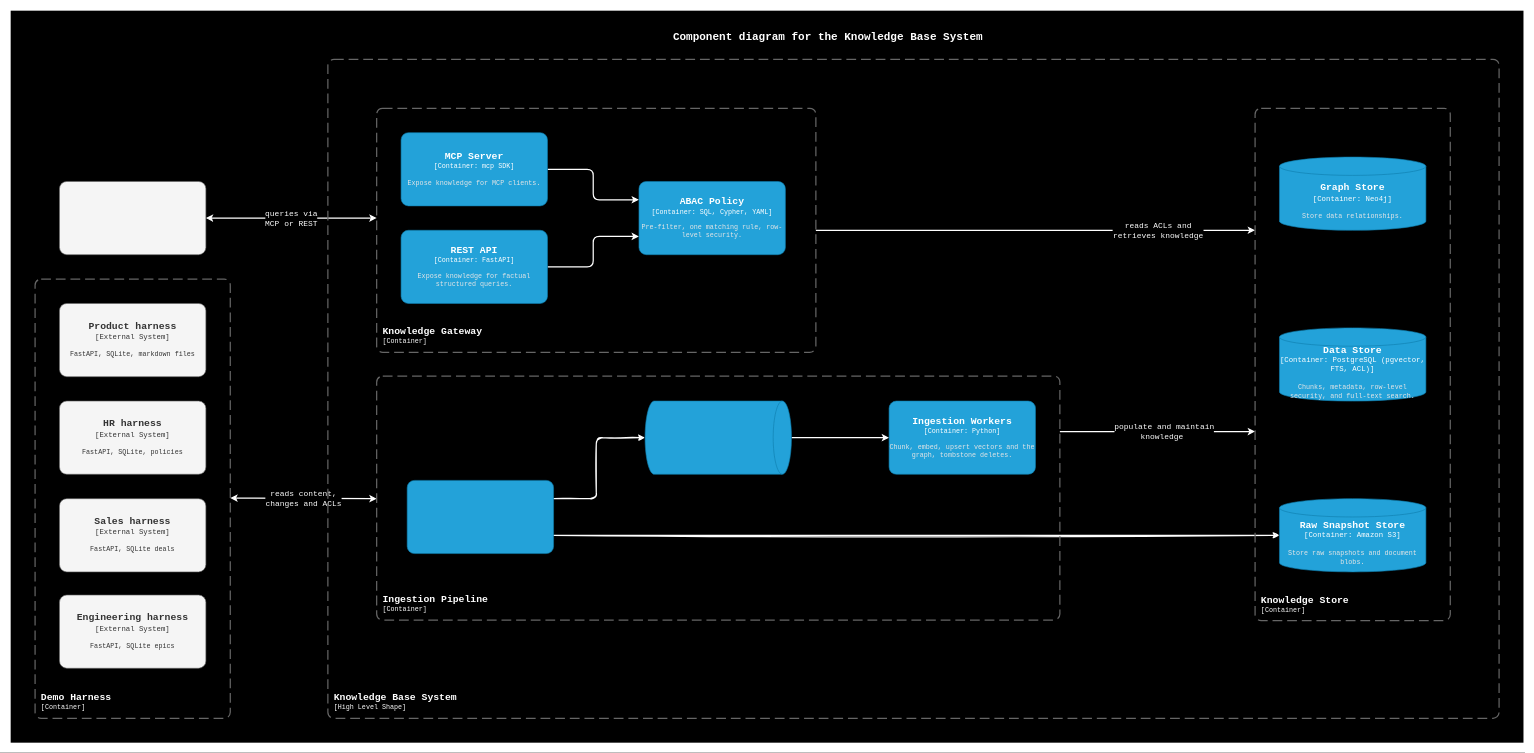
Some shapes in this 1534 by 753 pixel diagram are drawn without their labels. The shapes that lost their labels are listed below. From the top down, each one's centre as x and y in pixels, then its label:
At point (132, 218): "AI Agents [External System] HR Chatbot Assistant Roadmap Agent".
At point (717, 437): "SQS Queues & DLQ [Container: SQS] FIFO per tier. Group is one object.".
At point (480, 517): "Connector Workers [Container: Python] Extract, detect change, and emit events.".
